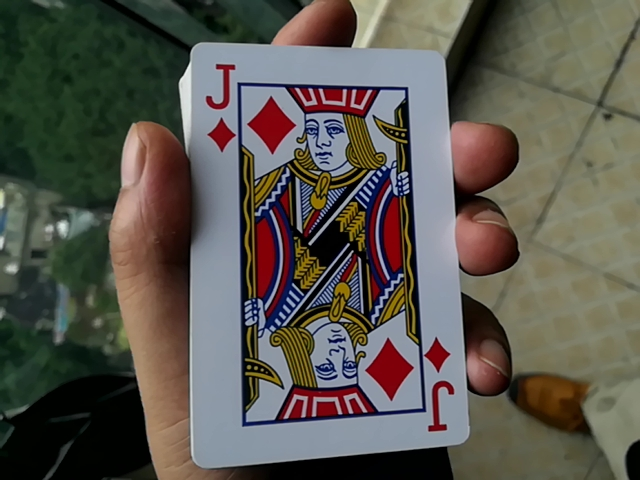fk j: (168, 50, 468, 469)
